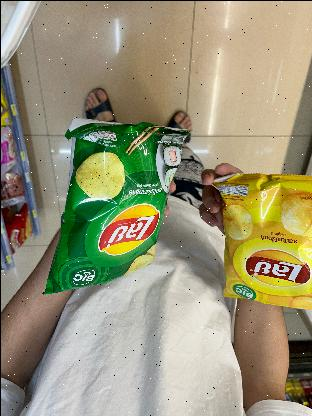Others: (36, 119, 192, 296), (216, 172, 312, 314)
